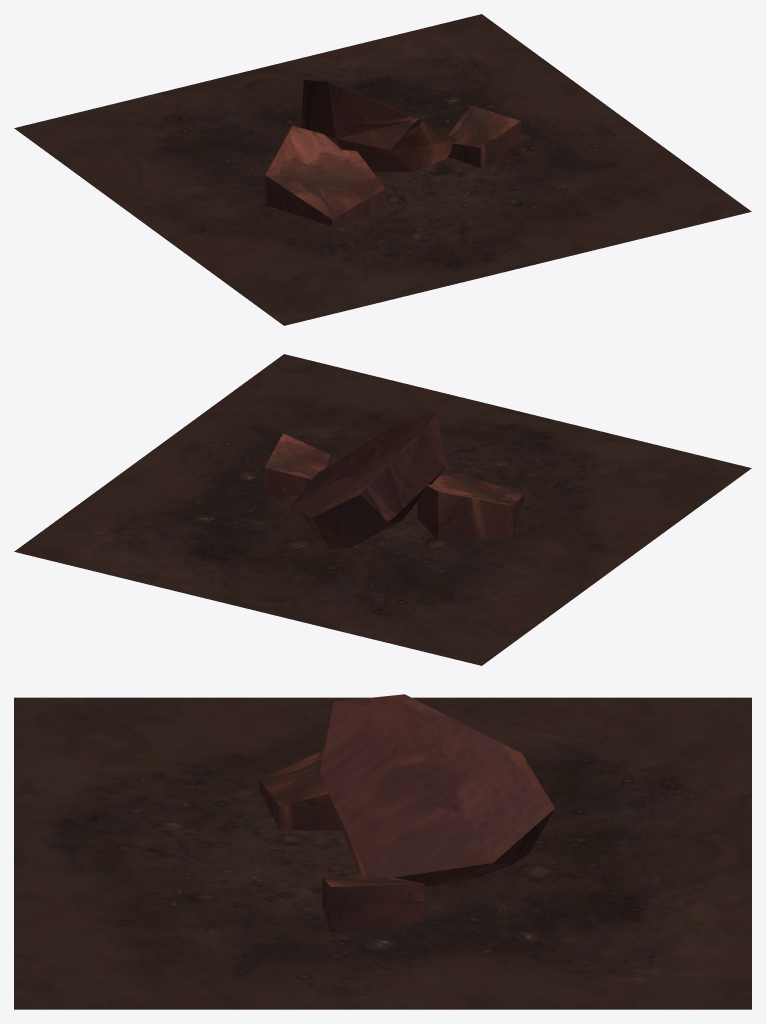
The model's file is lava_rubble_01.fbx.
3 views of the same model, one above another, from view 1: azimuth 30°, elevation 25°; view 2: azimuth 150°, elevation 25°; view 3: azimuth 270°, elevation 25° (orthographic). The views are drawn at different scales.
Visible parts, largest first — view 1: obj1.023; view 2: obj1.023; view 3: obj1.023.
Part boxes in pixels (x1=…): obj1.023: x1=14, y1=14, x2=751, y2=325; obj1.023: x1=14, y1=354, x2=751, y2=665; obj1.023: x1=14, y1=694, x2=751, y2=1009.
Bounding box in the file's own units: 4 × 1.11 × 4.
